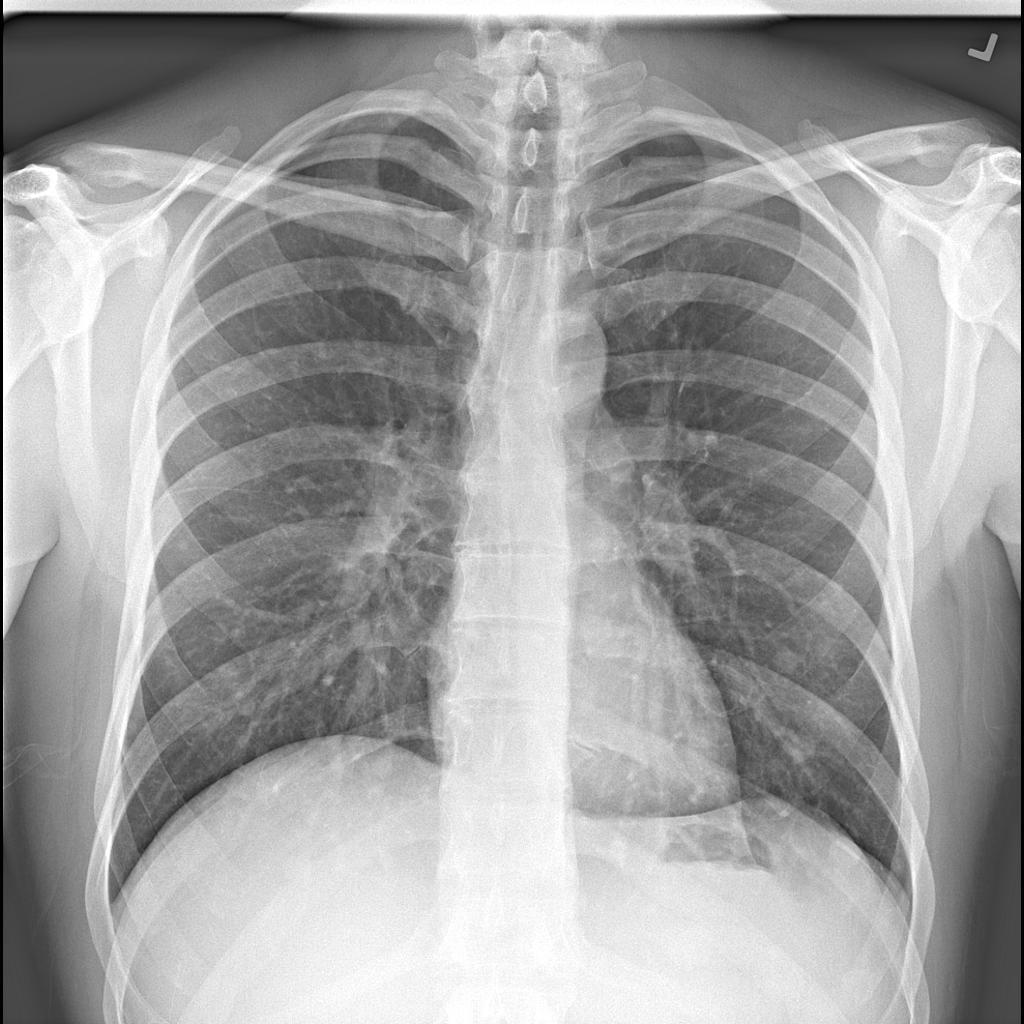Nodule: (766, 639, 809, 686)
